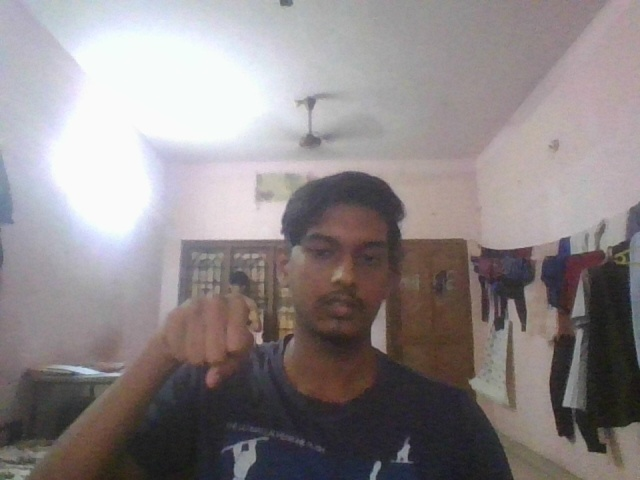yes: (157, 286, 263, 393)
